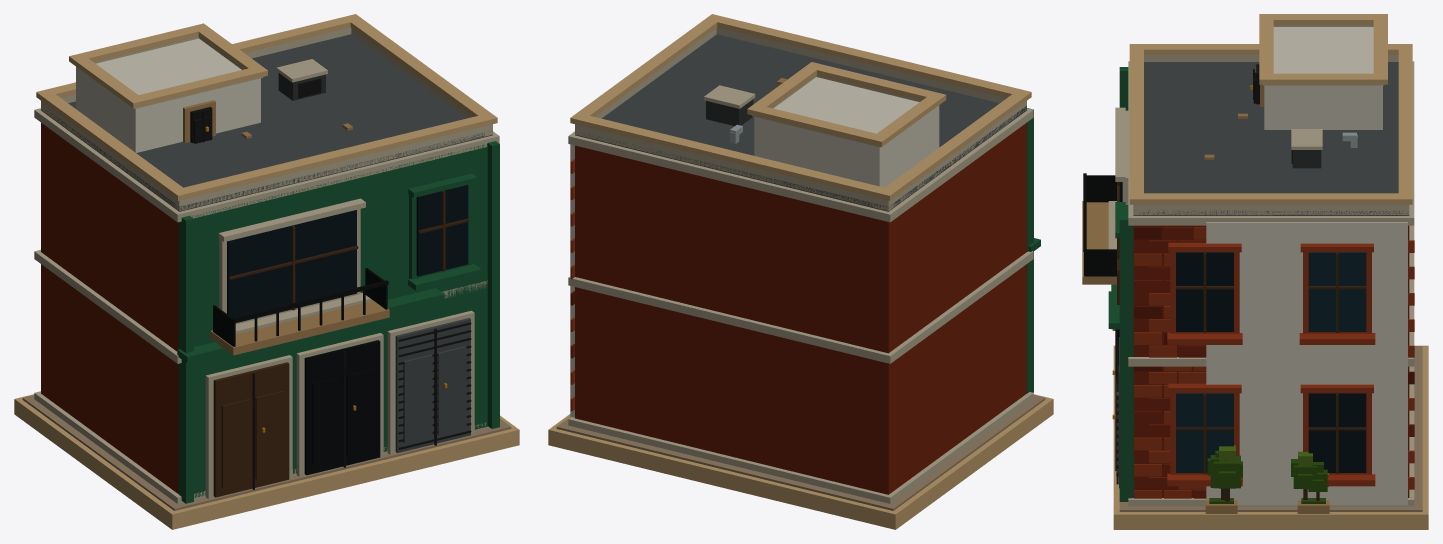
File: SM_Mapa_040.fbx
3 renders of one model, left to right at view 1: azimuth 30°, elevation 25°; view 2: azimuth 150°, elevation 25°; view 3: azimuth 270°, elevation 25°, orthographic.
Visible parts, largest first — view 1: SM_Mapa_040; view 2: SM_Mapa_040; view 3: SM_Mapa_040.
Boxes of the visible parts, x1,y1,x2,y2 form: SM_Mapa_040: [14, 14, 519, 529]; SM_Mapa_040: [548, 14, 1053, 529]; SM_Mapa_040: [1082, 14, 1428, 529].
Bounding box in the file's own units: 8 × 6.75 × 7.82.
